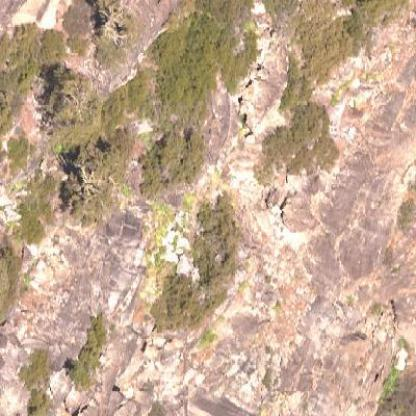tree-top: (58, 152, 123, 217), (42, 73, 104, 137), (84, 0, 144, 63)
